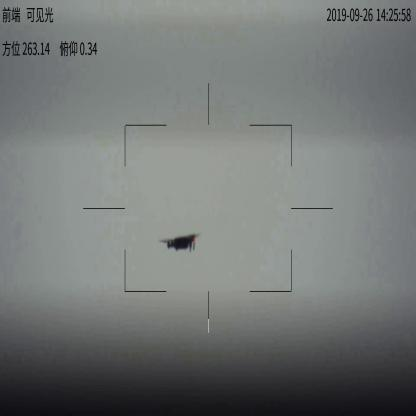uav: (160, 232, 202, 254)
